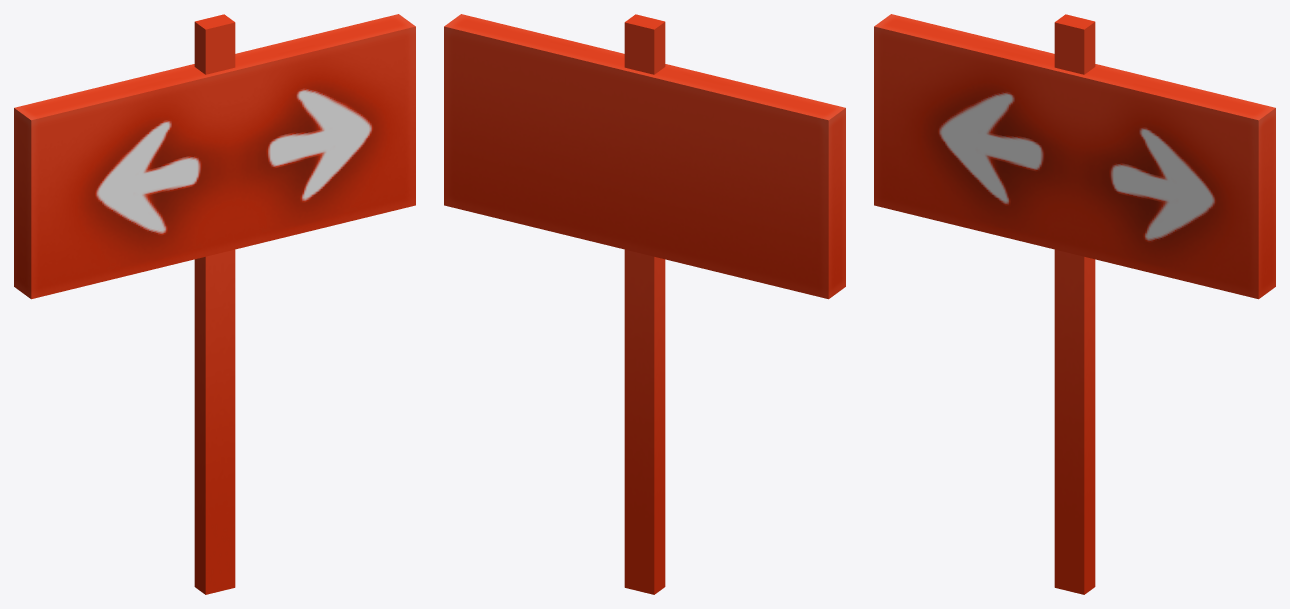
File: Asset_Prop_Signpost_01.fbx
3 views of the same model, side by side, from view 1: azimuth 30°, elevation 25°; view 2: azimuth 150°, elevation 25°; view 3: azimuth 330°, elevation 25° (orthographic).
Visible parts, largest first — view 1: Asset_Prop_SignPost_01; view 2: Asset_Prop_SignPost_01; view 3: Asset_Prop_SignPost_01.
Boxes of the visible parts, <box> form: Asset_Prop_SignPost_01: <box>14,14,415,594</box>; Asset_Prop_SignPost_01: <box>444,14,845,594</box>; Asset_Prop_SignPost_01: <box>874,14,1275,594</box>.
Bounding box in the file's own units: 30.29 × 42.54 × 2.33.
